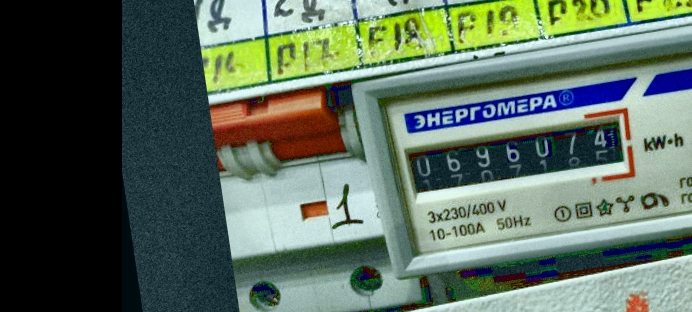0: (412, 151, 434, 177), (532, 132, 551, 159)
4: (589, 123, 608, 147)
5: (594, 148, 612, 165)
6: (503, 136, 524, 164), (443, 147, 463, 173)
7: (562, 128, 582, 155)
9: (473, 141, 492, 169)
screen: (393, 102, 640, 206)
